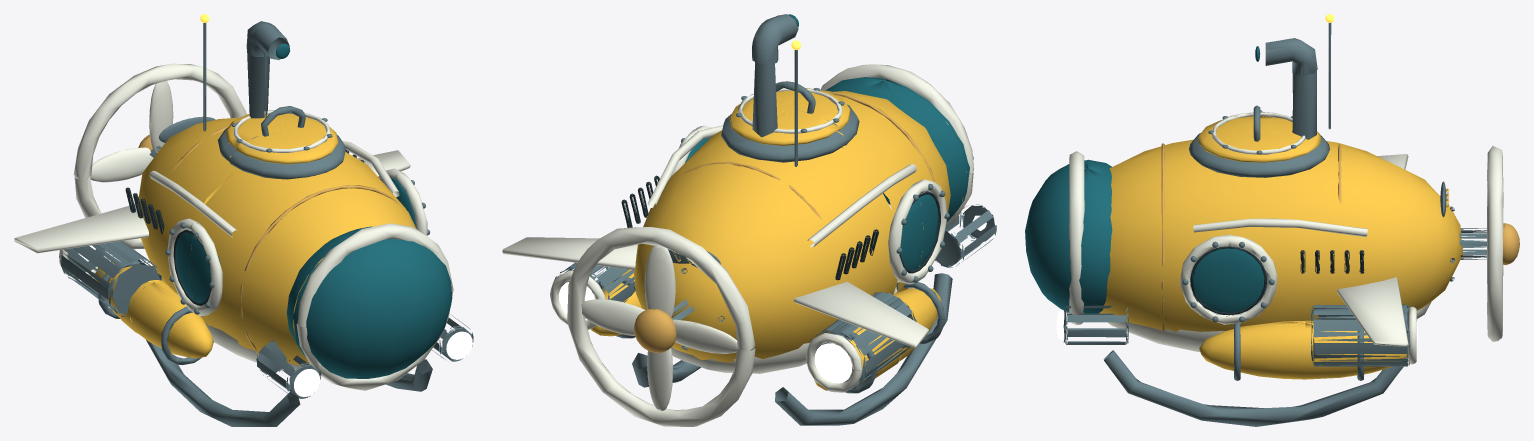
The model's file is submarine-lite.glb.
The picture shows the model from 3 angles, left to right: view 1: azimuth 30°, elevation 25°; view 2: azimuth 150°, elevation 25°; view 3: azimuth 270°, elevation 25°; orthographic projection. The views are drawn at different scales.
Parts seen in each view (by area): view 1: Pressure hull, Front glass dome, Propeller cage, Ballast tank, Front pressure ring, Thruster housing, Hatch cover, Hydroplane, Landing skid, Hatch base, Window pressure ring, Observation window (+20 smaller); view 2: Pressure hull, Propeller cage, Front glass dome, Landing skid, Hydroplane, Hatch cover, Front pressure ring, Hatch base, Hydroplane.001, Thruster housing, Window pressure ring, Observation window (+22 smaller); view 3: Pressure hull, Front glass dome, Ballast tank.001, Landing skid.001, Thruster housing.001, Observation window.001, Hatch cover, Hydroplane.001, Propeller cage, Window pressure ring.001, Hatch base, Front pressure ring (+11 smaller).
Boxes of the visible parts, x1,y1,x2,y2 form: Pressure hull: [138, 117, 415, 366]; Front glass dome: [287, 226, 452, 378]; Propeller cage: [73, 63, 246, 249]; Ballast tank: [95, 262, 213, 358]; Front pressure ring: [296, 223, 453, 390]; Thruster housing: [61, 241, 161, 317]; Hatch cover: [225, 110, 338, 164]; Hydroplane: [14, 204, 148, 253]; Landing skid: [146, 340, 300, 426]; Hatch base: [217, 127, 346, 179]; Window pressure ring: [167, 218, 222, 316]; Observation window: [175, 224, 220, 302]; Pressure hull: [634, 91, 950, 362]; Propeller cage: [567, 227, 755, 426]; Front glass dome: [825, 77, 973, 221]; Landing skid: [775, 273, 952, 425]; Hydroplane: [793, 281, 929, 347]; Hatch cover: [729, 88, 850, 145]; Front pressure ring: [820, 64, 973, 225]; Hatch base: [721, 104, 859, 162]; Hydroplane.001: [502, 237, 637, 269]; Thruster housing: [810, 292, 916, 391]; Window pressure ring: [888, 179, 946, 284]; Observation window: [900, 194, 938, 270]; Pressure hull: [1099, 139, 1462, 331]; Front glass dome: [1025, 159, 1112, 313]; Ballast tank.001: [1199, 320, 1406, 379]; Landing skid.001: [1103, 350, 1408, 426]; Thruster housing.001: [1311, 304, 1410, 366]; Observation window.001: [1190, 248, 1267, 316]; Hatch cover: [1198, 116, 1321, 162]; Hydroplane.001: [1337, 277, 1408, 346]; Propeller cage: [1487, 146, 1503, 341]; Window pressure ring.001: [1179, 234, 1277, 324]; Hatch base: [1189, 133, 1329, 177]; Front pressure ring: [1069, 151, 1084, 324].
Bounding box in the file's own units: 3.53 × 3.15 × 4.01.
